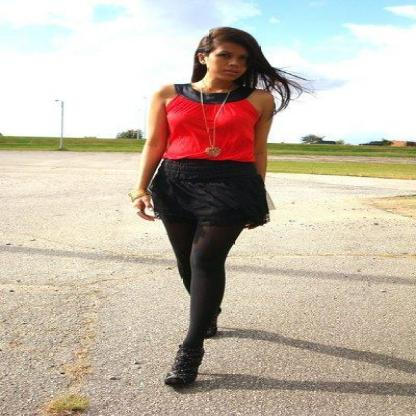shirt: (150, 96, 272, 174)
shoe: (164, 355, 203, 390)
skirt: (148, 157, 269, 229)
